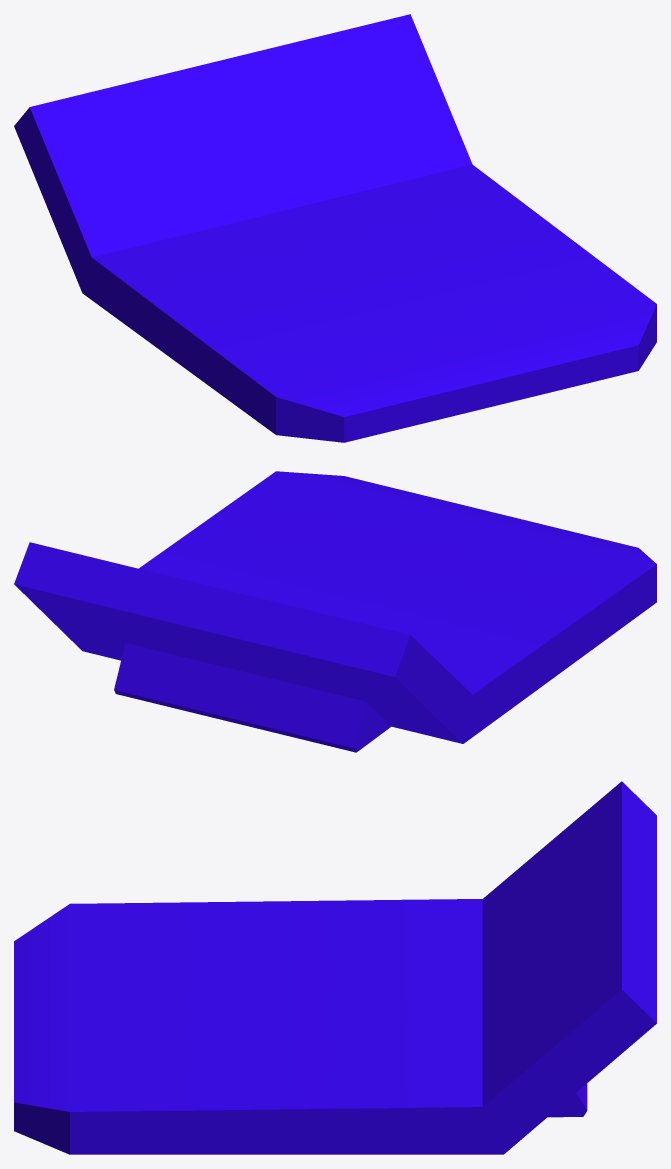
Rendered from office_pack_calculator_1_meshCollider.fbx.
3 views of the same model, one above another, from view 1: azimuth 30°, elevation 25°; view 2: azimuth 150°, elevation 25°; view 3: azimuth 270°, elevation 25° (orthographic). The views are drawn at different scales.
Parts seen in each view (by area): view 1: office_pack_calculator_1_meshCollider; view 2: office_pack_calculator_1_meshCollider; view 3: office_pack_calculator_1_meshCollider.
Part boxes in pixels (left/top/right/bottom): office_pack_calculator_1_meshCollider: left=14, top=14, right=656, bottom=442; office_pack_calculator_1_meshCollider: left=14, top=471, right=656, bottom=752; office_pack_calculator_1_meshCollider: left=14, top=781, right=656, bottom=1154.
Bounding box in the file's own units: 12.35 × 4.58 × 16.12.
